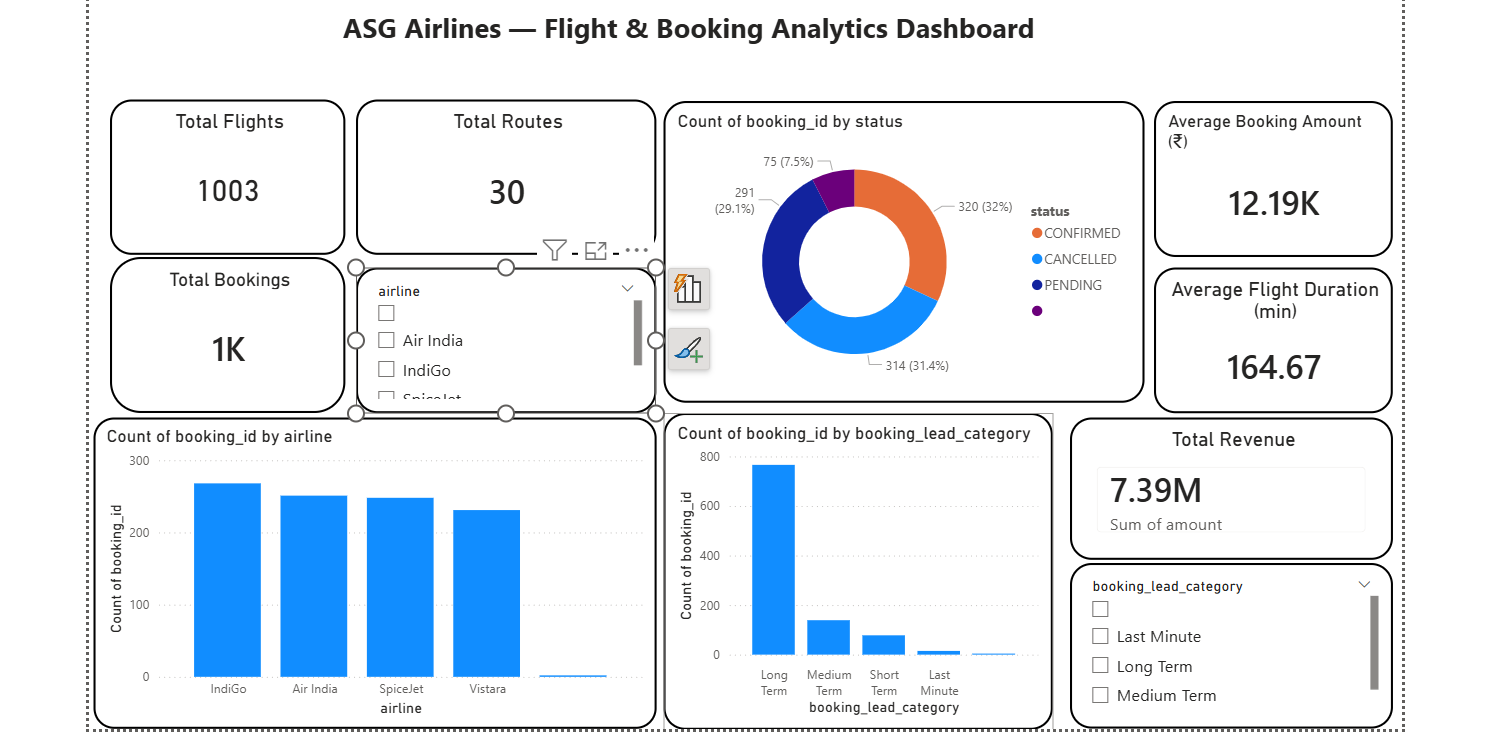

This screenshot's page, from the dashboard's own definition file:
{"tool":"powerbi","page":{"name":"Overview","canvas":[1280,720],"ordinal":0},"visuals":[{"type":"card","title":"Total Flights","fields":{"Values":["CountNonNull(dim_flights.flight_id)"]},"box":[19.9,106,229.2,151],"z":0},{"type":"cardVisual","title":"Total Bookings","fields":{"Data":["CountNonNull(fact_bookings.booking_id)"]},"box":[19.9,259.6,229.2,152.3],"z":1000},{"type":"cardVisual","title":"Total Routes","fields":{"Data":["Count(dim_flights.route)"]},"box":[259.6,106,292.7,151],"z":2000},{"type":"cardVisual","title":"Average Flight Duration (min)","fields":{"Data":["Avg(dim_flights.duration_minutes)"]},"box":[1038.3,269.7,232.5,142.1],"z":3000},{"type":"cardVisual","title":"Average Booking Amount (₹)","fields":{"Data":["Avg(fact_bookings.amount)"]},"box":[1038.3,108.2,232.5,151.8],"z":4000},{"type":"clusteredColumnChart","fields":{"Category":["fact_bookings.airline"],"Y":["CountNonNull(fact_bookings.booking_id)"]},"box":[4,417.2,548.4,303.3],"z":5000},{"type":"donutChart","fields":{"Category":["fact_bookings.status"],"Y":["CountNonNull(fact_bookings.booking_id)"]},"box":[560.3,108.6,468.9,294.1],"z":6000},{"type":"clusteredColumnChart","fields":{"Category":["fact_bookings.booking_lead_category"],"Y":["CountNonNull(fact_bookings.booking_id)"]},"box":[560.3,411.8,379.5,308.4],"z":7000},{"type":"cardVisual","title":"Total Revenue","fields":{"Data":["Sum(fact_bookings.amount)"]},"box":[956,416.6,314.9,138.9],"z":8000},{"type":"textbox","box":[100.1,12.9,967.3,63],"z":9000},{"type":"slicer","fields":{"Values":["fact_bookings.booking_lead_category"]},"box":[956,558.7,314.9,161.5],"z":10000},{"type":"slicer","fields":{"Values":["fact_bookings.airline"]},"box":[259.6,270.2,292.7,141.7],"z":11000}]}

Visuals, with their boxes on the page's 1280x720 design canvas (x1, y1, x2, y2). These are canvas units, not pixel positions in the 1511x732 screenshot, which may show the page scaled, cropped or inside an application window:
"Total Flights" card: 20/106/249/257
"Total Bookings" cardVisual: 20/260/249/412
"Total Routes" cardVisual: 260/106/552/257
"Average Flight Duration (min)" cardVisual: 1038/270/1271/412
"Average Booking Amount (₹)" cardVisual: 1038/108/1271/260
clusteredColumnChart - fact_bookings.airline x CountNonNull(fact_bookings.booking_id): 4/417/552/720
donutChart - fact_bookings.status x CountNonNull(fact_bookings.booking_id): 560/109/1029/403
clusteredColumnChart - fact_bookings.booking_lead_category x CountNonNull(fact_bookings.booking_id): 560/412/940/720
"Total Revenue" cardVisual: 956/417/1271/556
textbox: 100/13/1067/76
slicer - fact_bookings.booking_lead_category: 956/559/1271/720
slicer - fact_bookings.airline: 260/270/552/412
